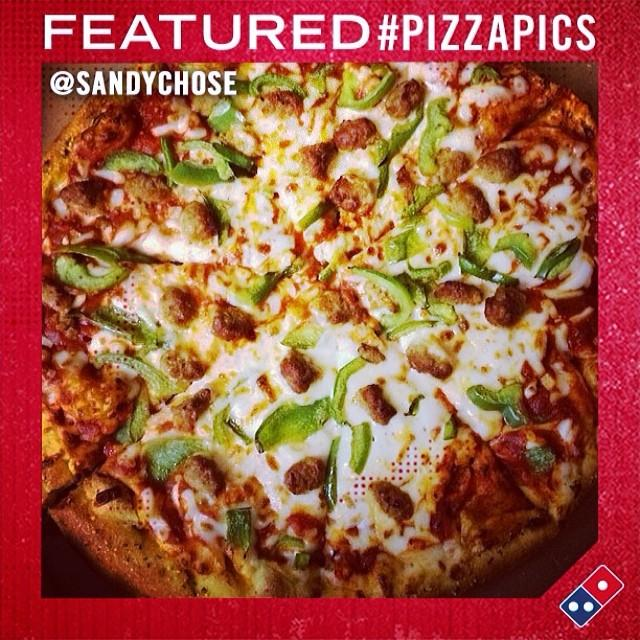pizza: (41, 62, 596, 596)
